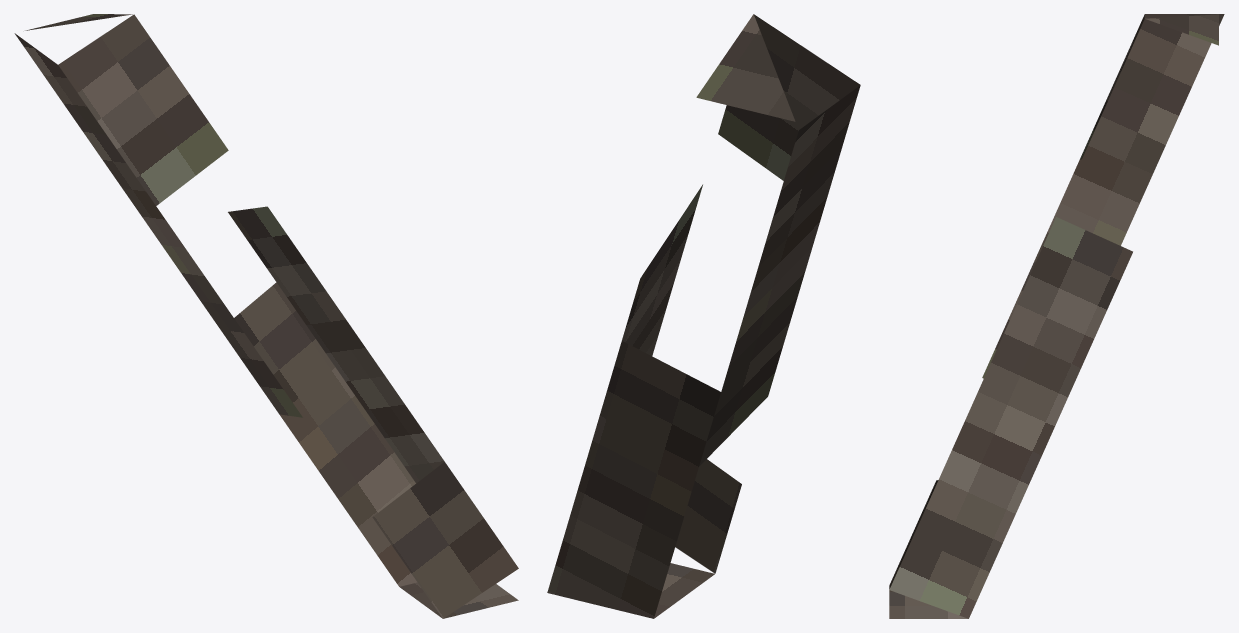
The model's file is elm_thin_branch_22.5_diagonal.obj.
3 views of the same model, side by side, from view 1: azimuth 30°, elevation 25°; view 2: azimuth 150°, elevation 25°; view 3: azimuth 270°, elevation 25° (orthographic). The views are drawn at different scales.
Parts seen in each view (by area): view 1: cube_selection; view 2: cube_selection; view 3: cube_selection.
Part boxes in pixels (box(x1,y1,x2,y2)): cube_selection: box(14, 14, 518, 618); cube_selection: box(547, 14, 860, 618); cube_selection: box(889, 14, 1224, 618).
Bounding box in the file's own units: 1.31 × 2.12 × 1.31.
